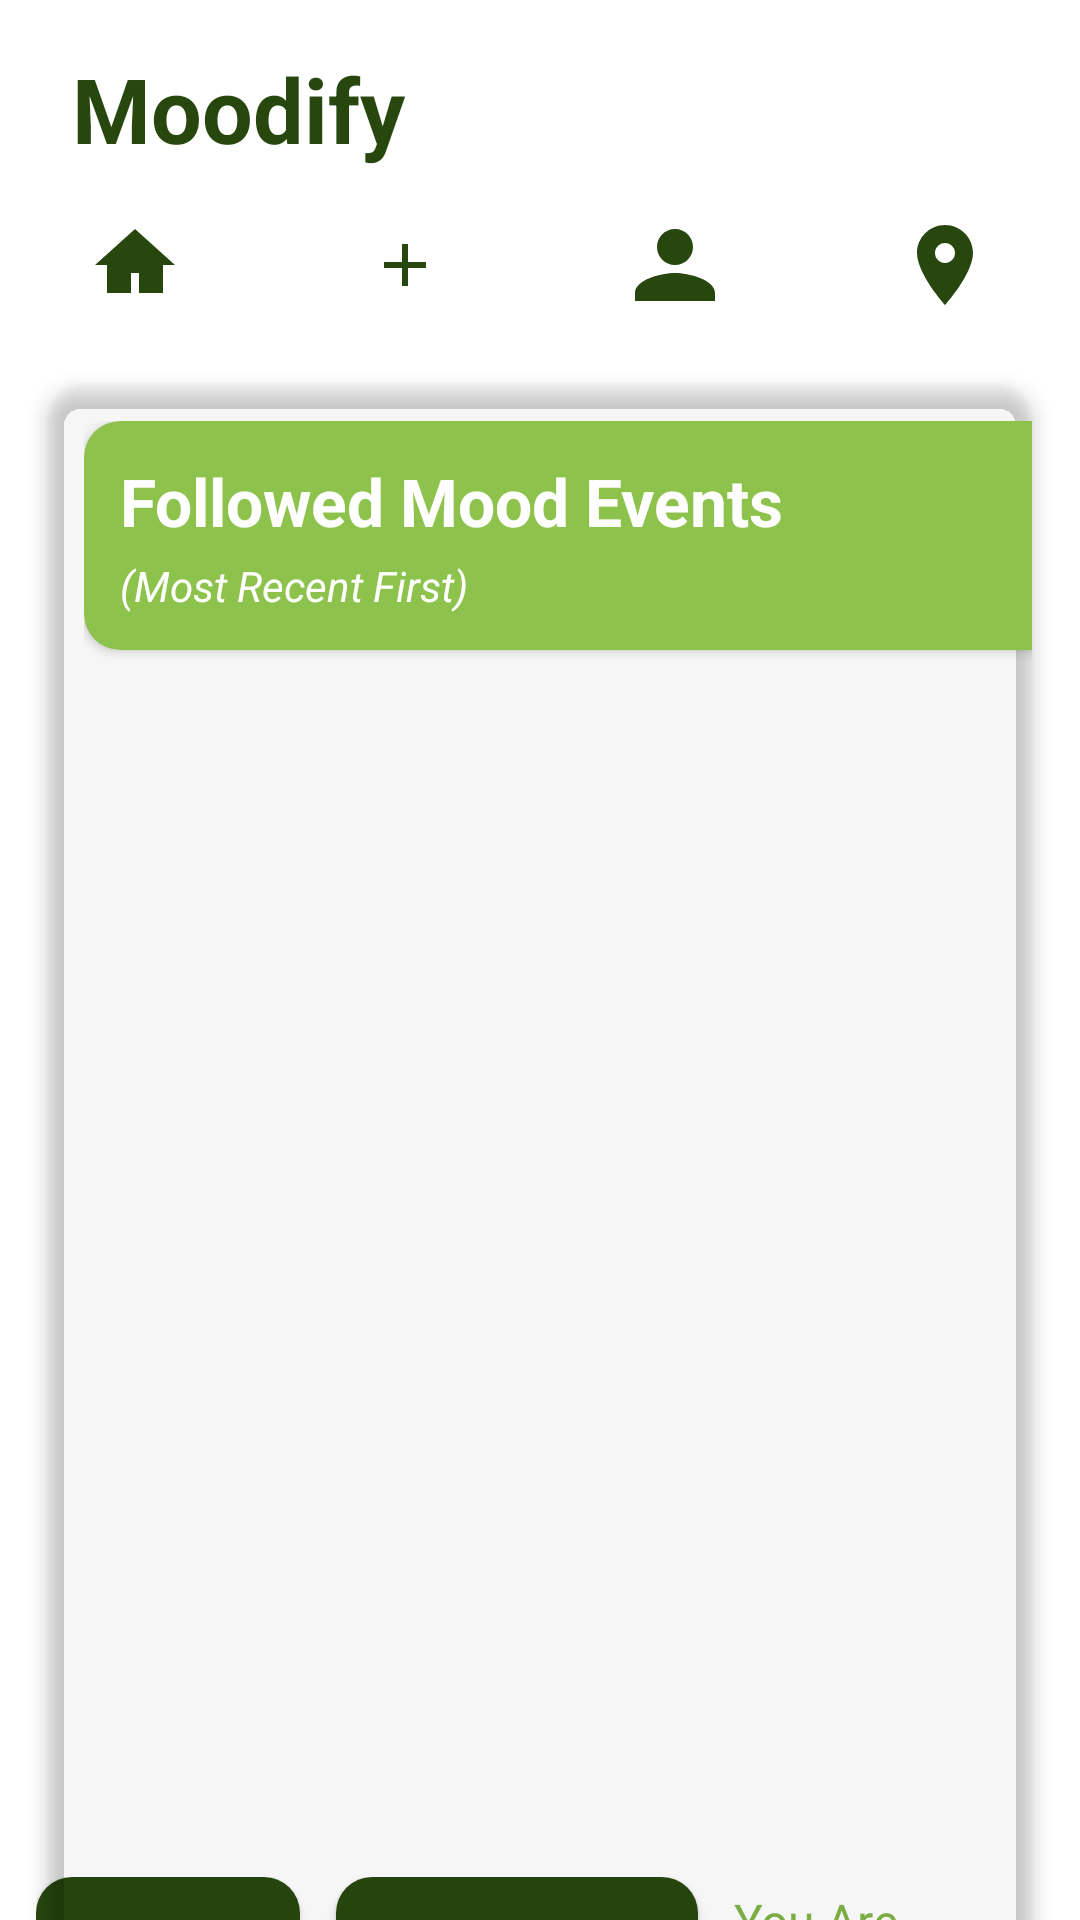

Locate icon controls on the screen. Image size 1080 × 1920, boxes as [x1, y1, x2, y2].
add: [384, 244, 426, 286]
home: [95, 229, 175, 293]
map: [917, 225, 973, 305]
profile: [635, 229, 715, 301]
